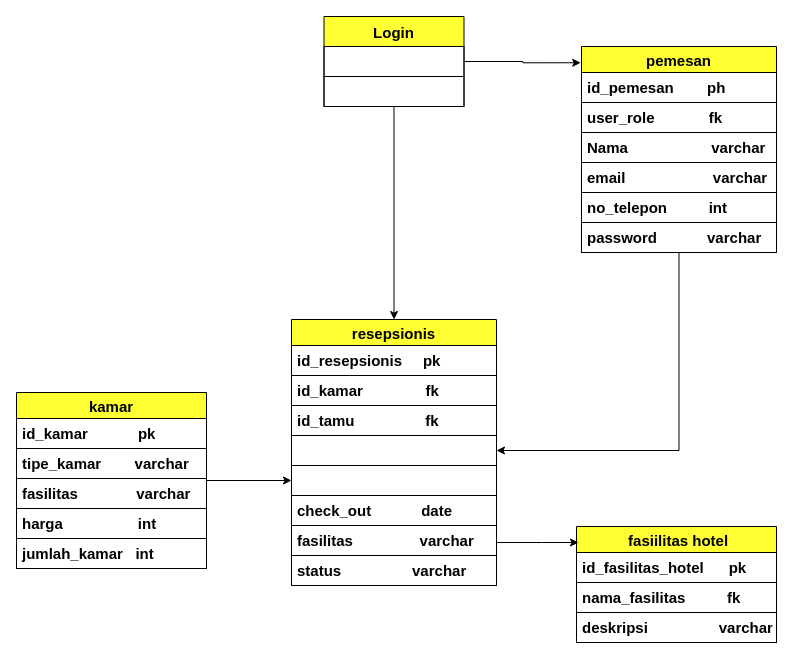
The diagram is 793 pixels wide and 659 high, and some of its shapes have lost their labels. The centre of each missing label's shape, as x and y in pixels:
"check_in date" belongs at point 393,480.
"id_role pk" belongs at point 393,61.
"nama_tamu varchar" belongs at point 393,450.
"user varchar" belongs at point 393,91.
